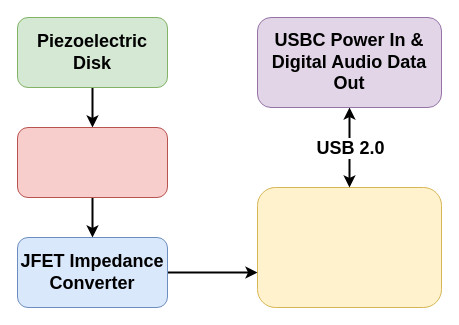
Some shapes in this 459 by 325 pixel diagram are drawn without their labels. Each missing label, with the box of its shape:
Audio CODEC: (256, 186, 442, 308)
Overvoltage Protection Circuit: (16, 126, 168, 198)
